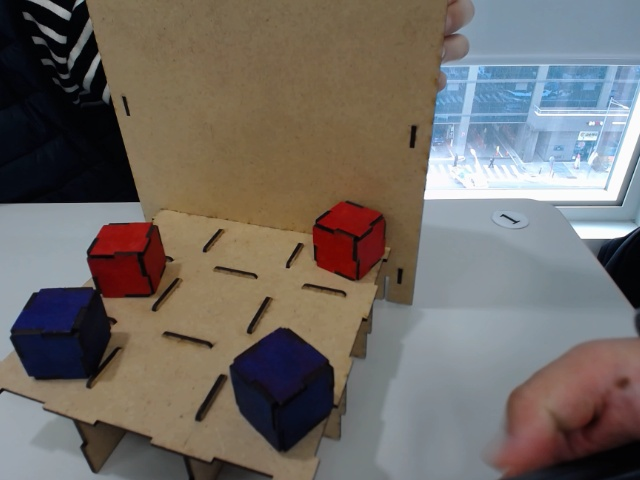blue: (229, 327, 333, 454), (10, 289, 110, 384)
red: (86, 221, 166, 300), (311, 202, 387, 282)
